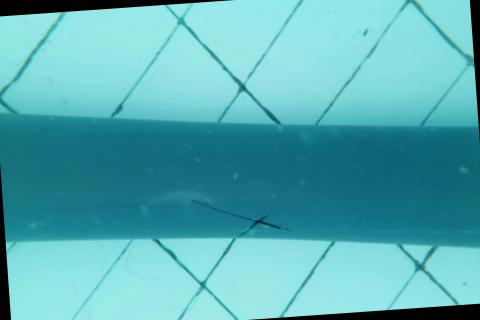keretakan: (190, 193, 292, 244)
